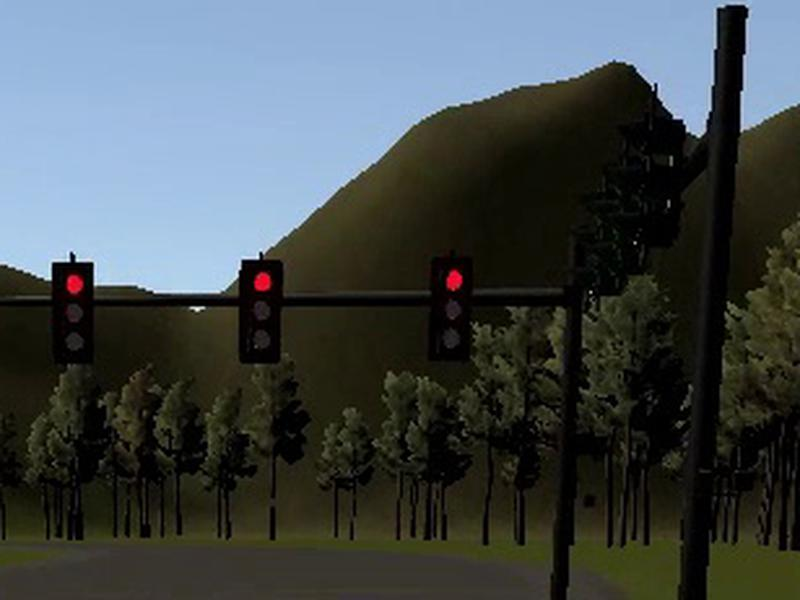Red: (239, 260, 280, 364), (52, 262, 93, 363), (431, 258, 469, 362)
